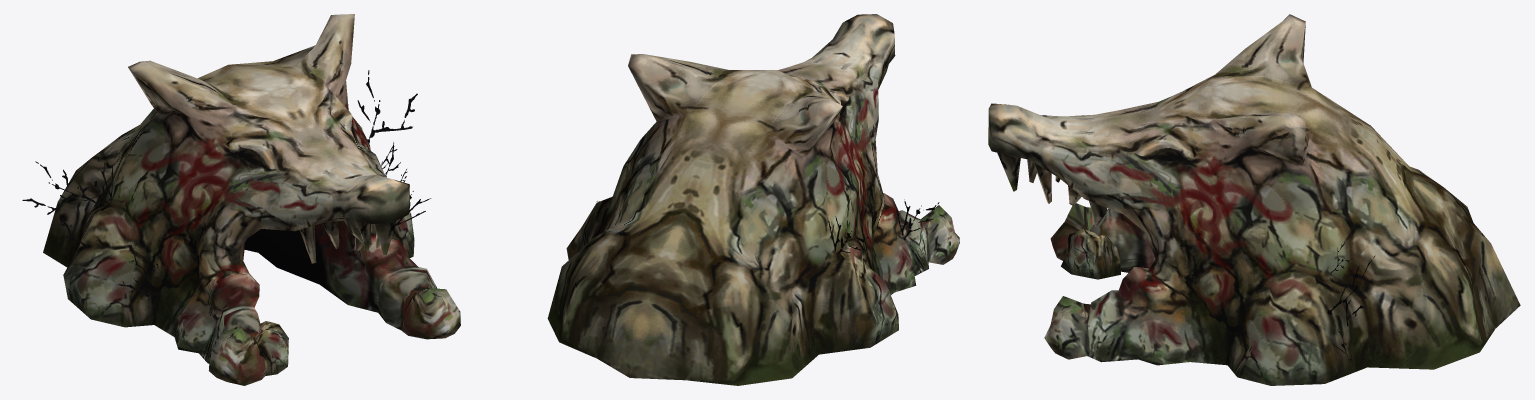
File: STR_CaveMoroko.FBX
3 renders of one model, left to right at view 1: azimuth 30°, elevation 25°; view 2: azimuth 150°, elevation 25°; view 3: azimuth 270°, elevation 25°, orthographic. The views are drawn at different scales.
Parts seen in each view (by area): view 1: STR_CaveMoroko; view 2: STR_CaveMoroko; view 3: STR_CaveMoroko.
Part boxes in pixels (x1,y1,x2,y2): STR_CaveMoroko: (22, 14, 460, 385); STR_CaveMoroko: (547, 14, 959, 385); STR_CaveMoroko: (988, 14, 1520, 385).
Size of the model in its own units: 2108 by 1104 by 2230.
